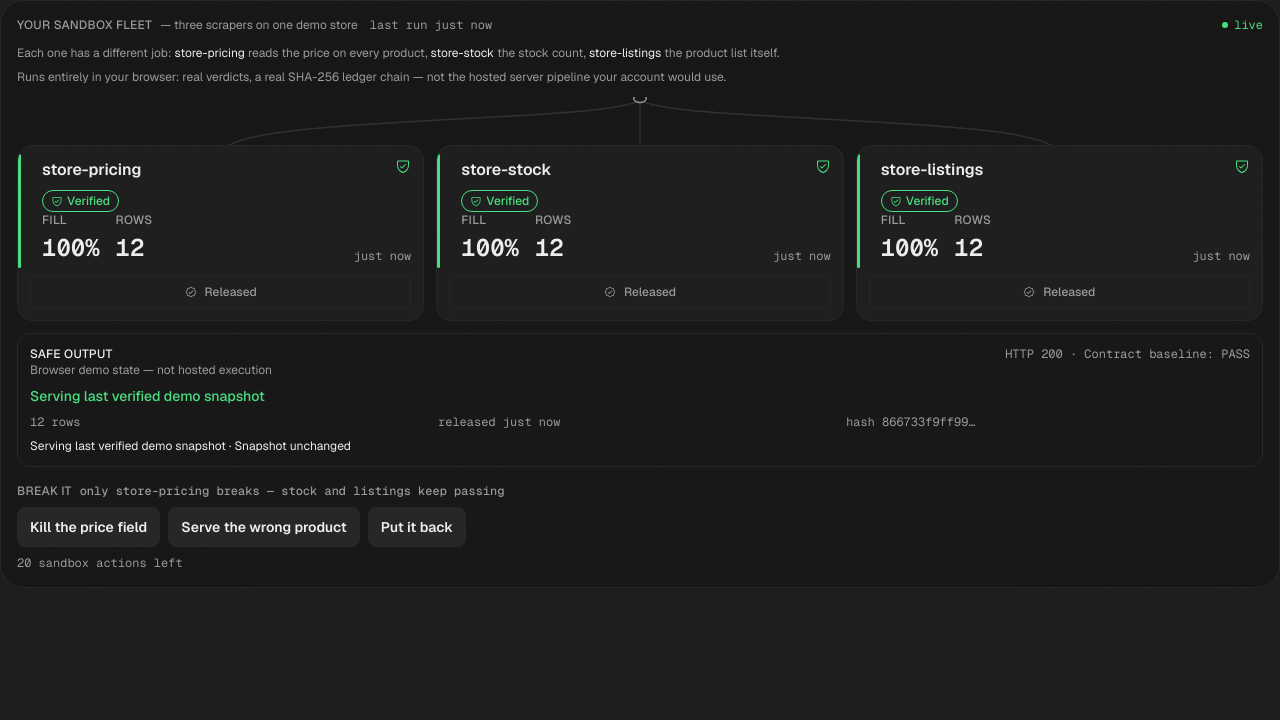
Test case: SandboxPanel — the interaction contract (ux-spec.md §3) › put it back genuinely returns the fleet to Verified after a prior break
Click the button with test id "sandbox-break-price_dead": (89, 527) [17,507,160,547]
Wait 2200 ms
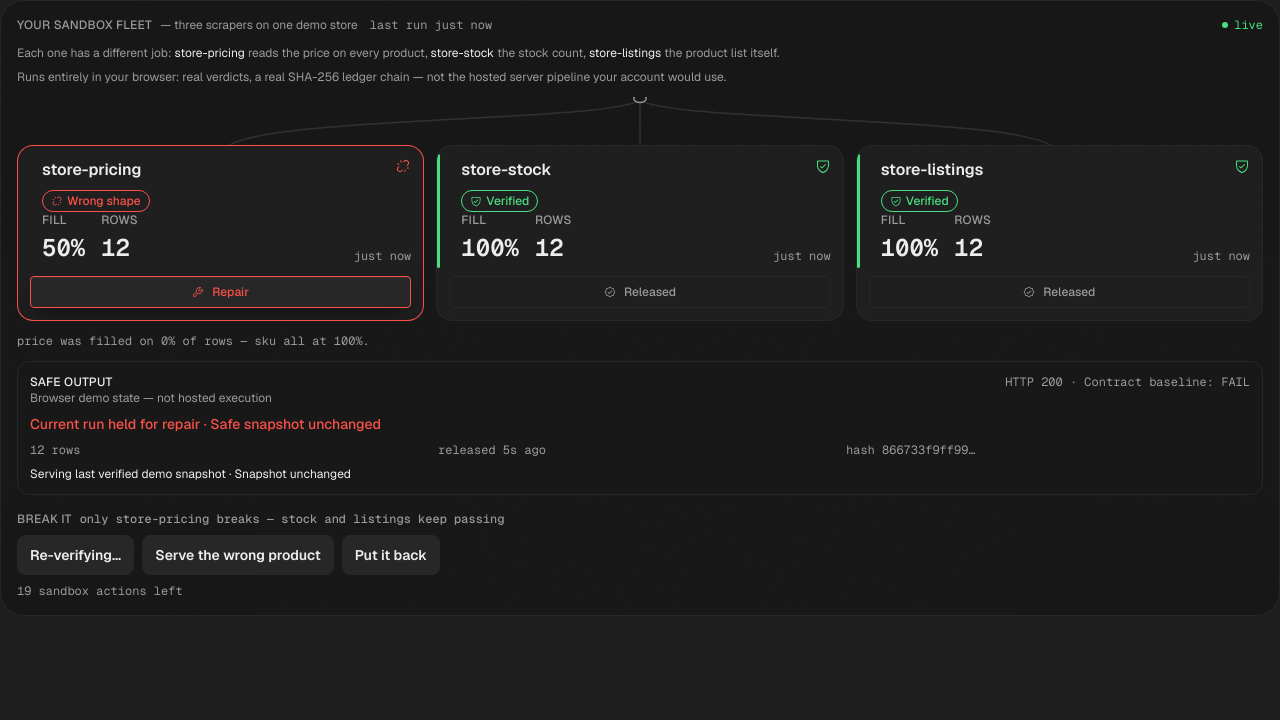
Expected: the text "Wrong shape" is shown once, [42,190,150,212]
Click the button with test id "sandbox-break-healthy": (391, 555) [342,535,440,575]
Wait 2200 ms
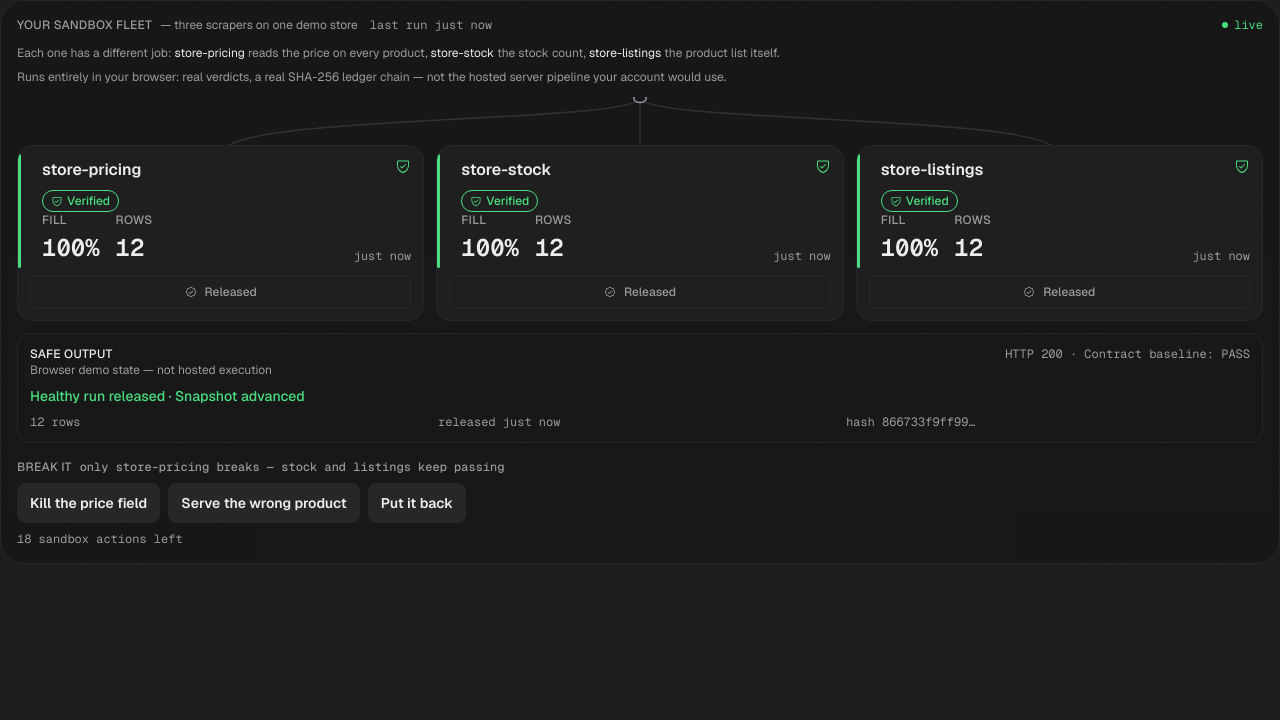
Expected: the text "Verified" is shown 3 times, [42,190,119,212]; [461,190,538,212]; [881,190,958,212]
Expected: the element with test id "safe-output-panel" shows "Healthy run released", [30,387,305,405]
Expected: the element with test id "safe-output-panel" shows "Snapshot advanced", [30,387,305,405]
